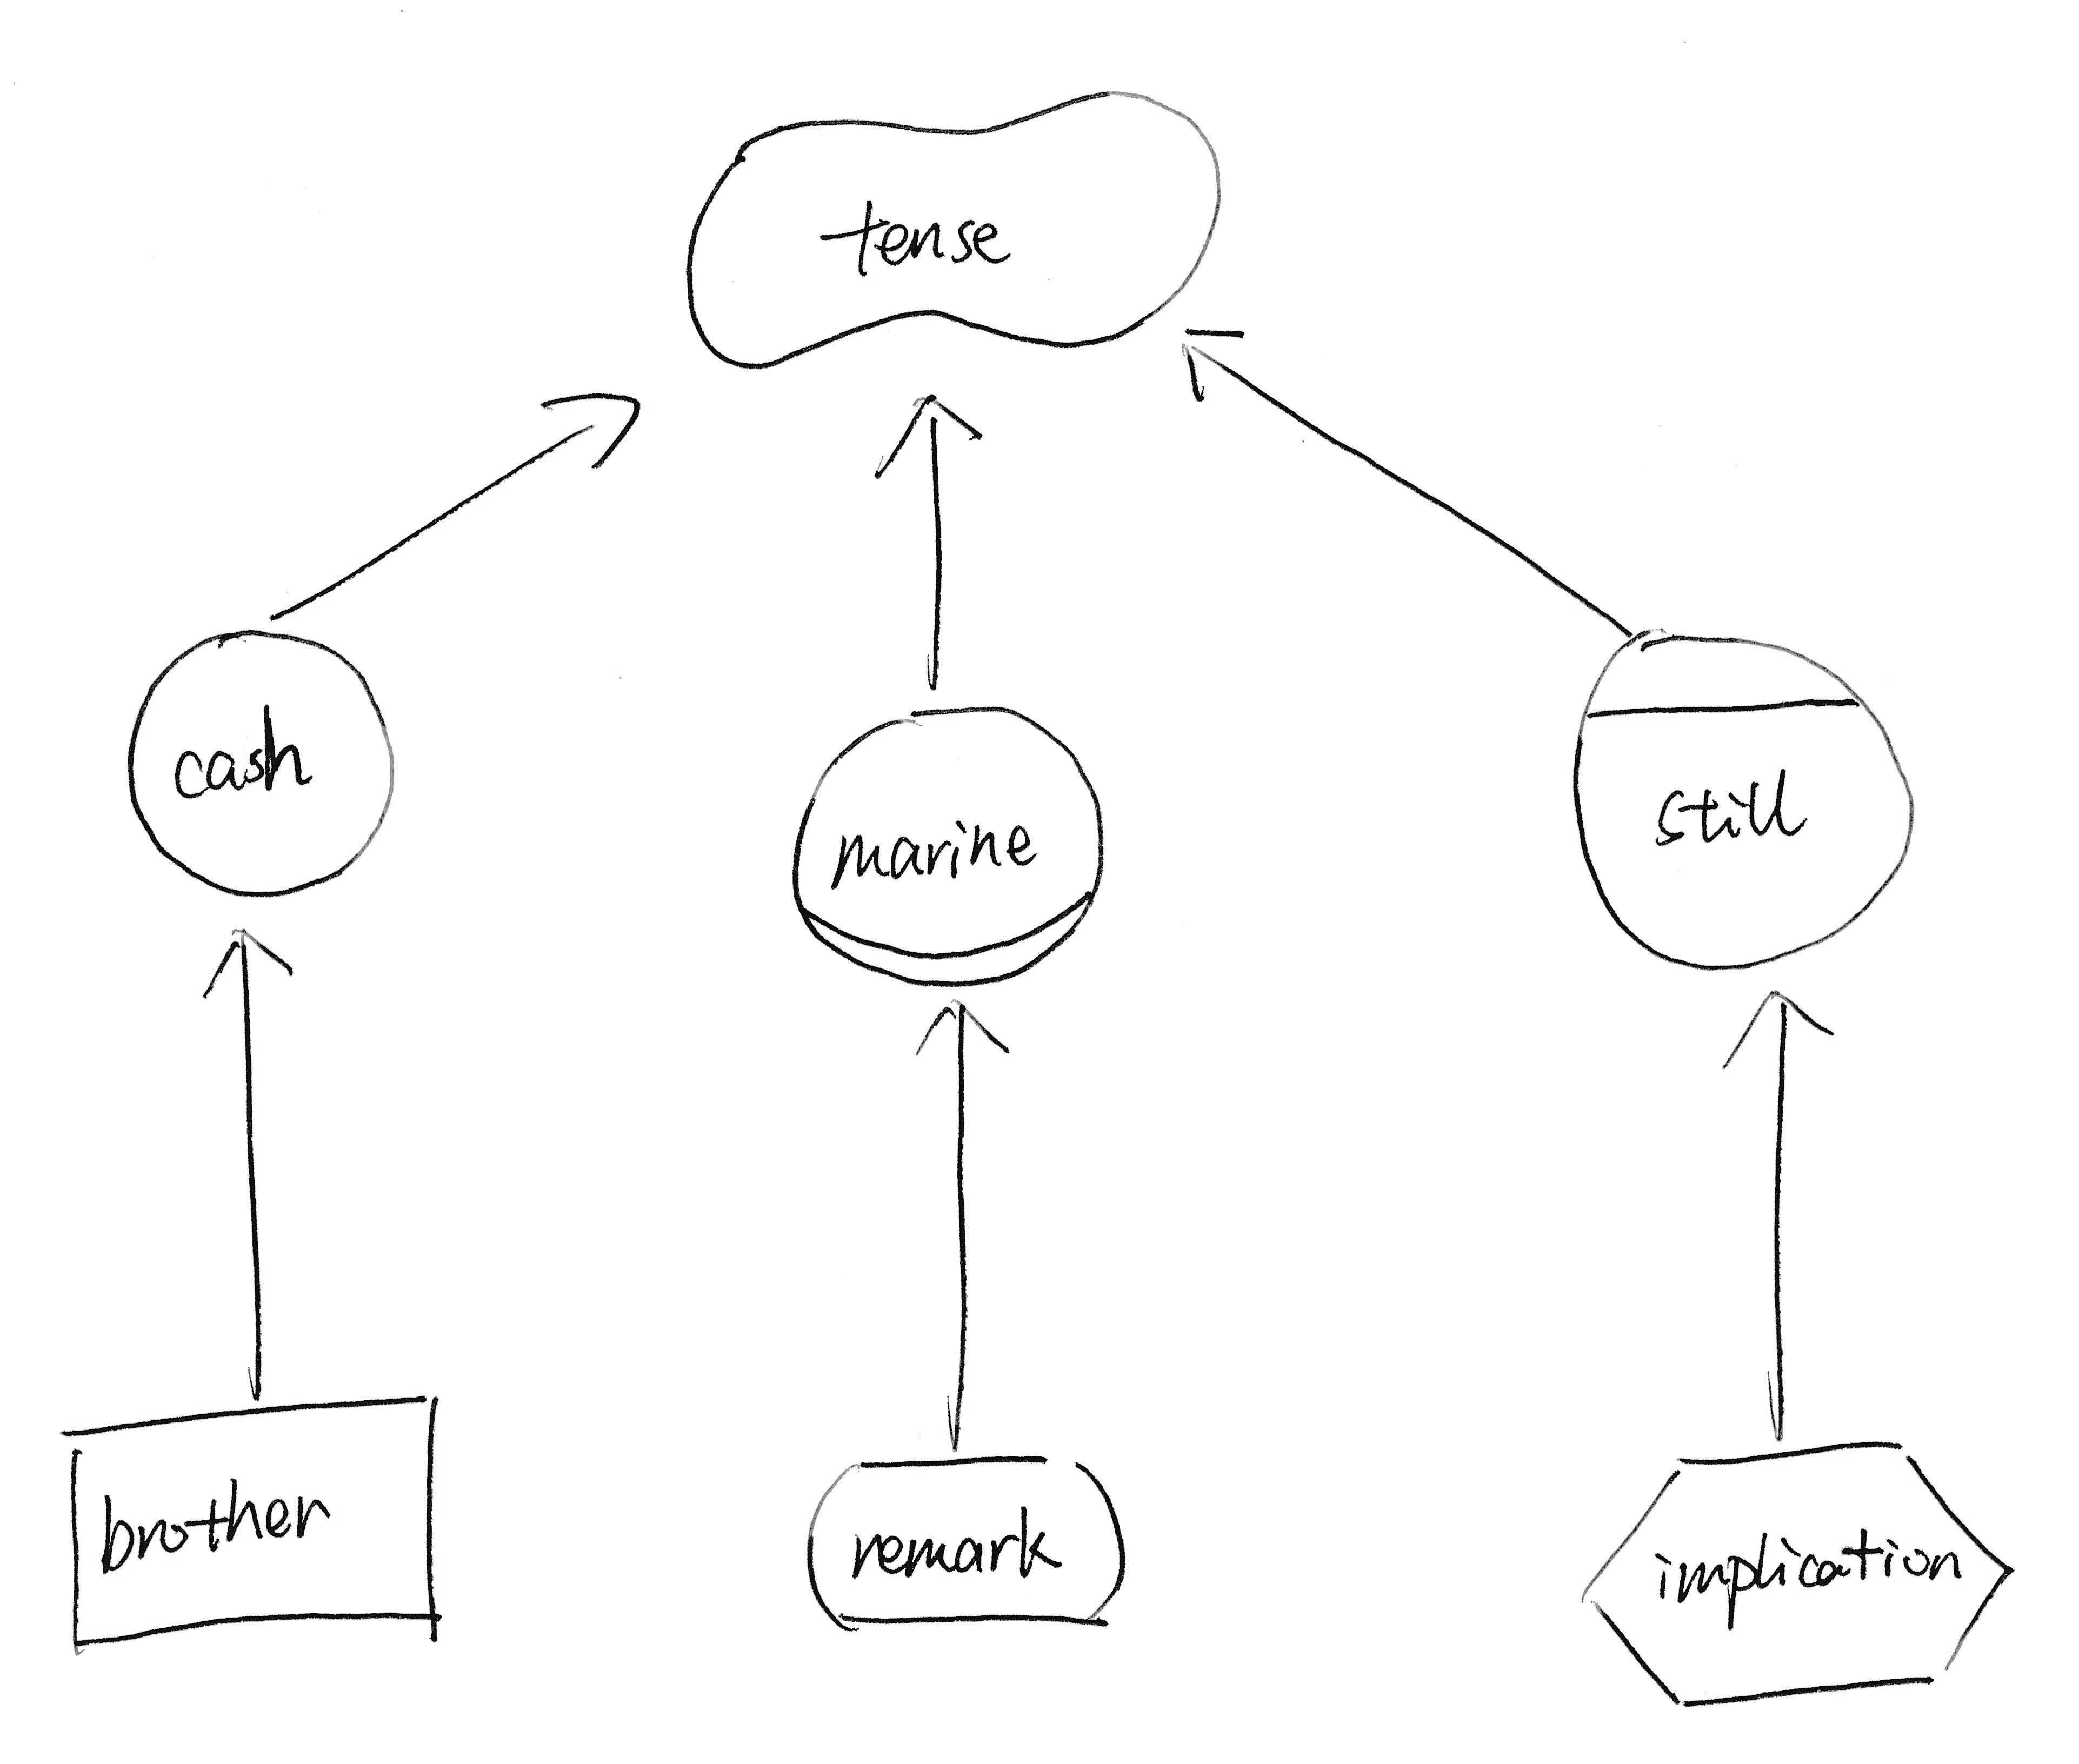actor: (110, 614, 411, 912)
agent: (1559, 611, 1930, 982)
arrow: (850, 385, 996, 492), (1715, 976, 1841, 1081), (534, 374, 654, 479), (898, 994, 1038, 1080), (187, 915, 310, 1013), (1171, 311, 1265, 415)
goal: (796, 1433, 1139, 1657)
quality: (668, 63, 1246, 388)
resource: (40, 1377, 464, 1675)
role: (773, 693, 1127, 1003)
task: (1566, 1426, 2030, 1724)
